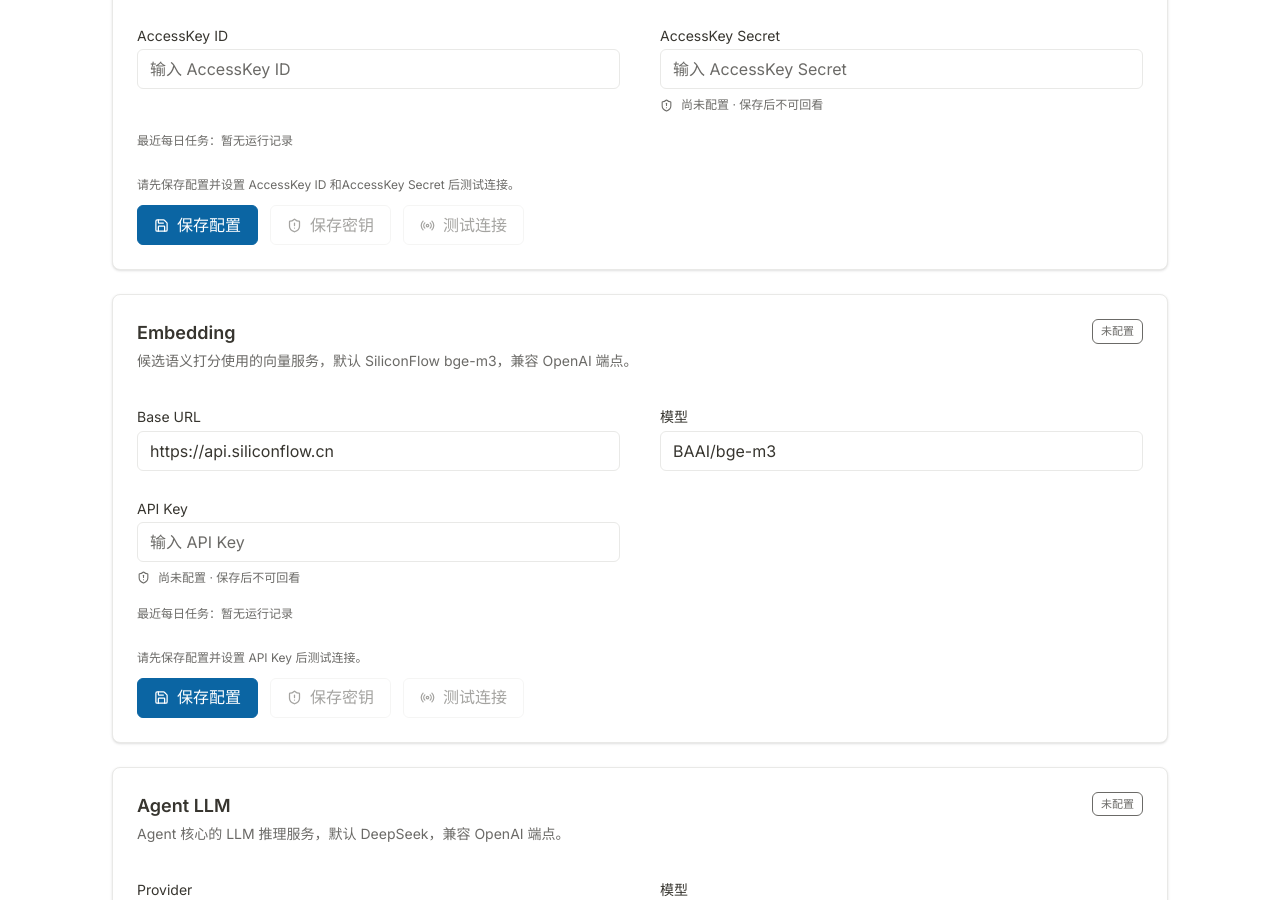
Scenario: Integration providers › requires the embedding endpoint and model before saving
(page scrolled)
Expected: the button with aria-label "保存Embedding配置" is enabled, [137, 678, 258, 718]
Clear the field labelled "模型" at (902, 450), box [660, 430, 1143, 470]
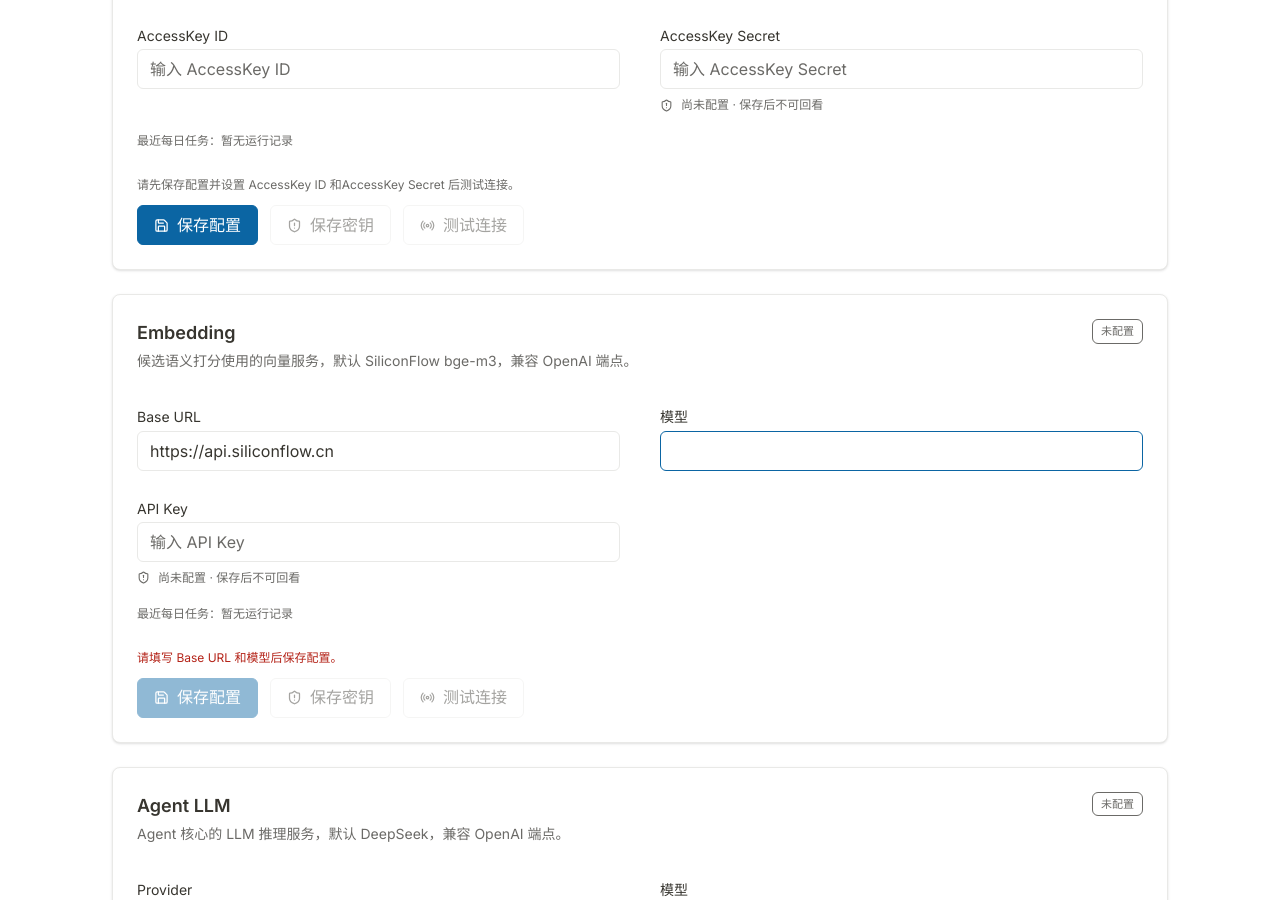
Expected: the button with aria-label "测试Embedding连接" is disabled, [403, 678, 524, 718]
Result: the button with aria-label "保存Embedding配置" is disabled at [137, 678, 258, 718]
Type "BAAI/bge-m3" into the field labelled "模型" at (902, 450), box [660, 430, 1143, 470]
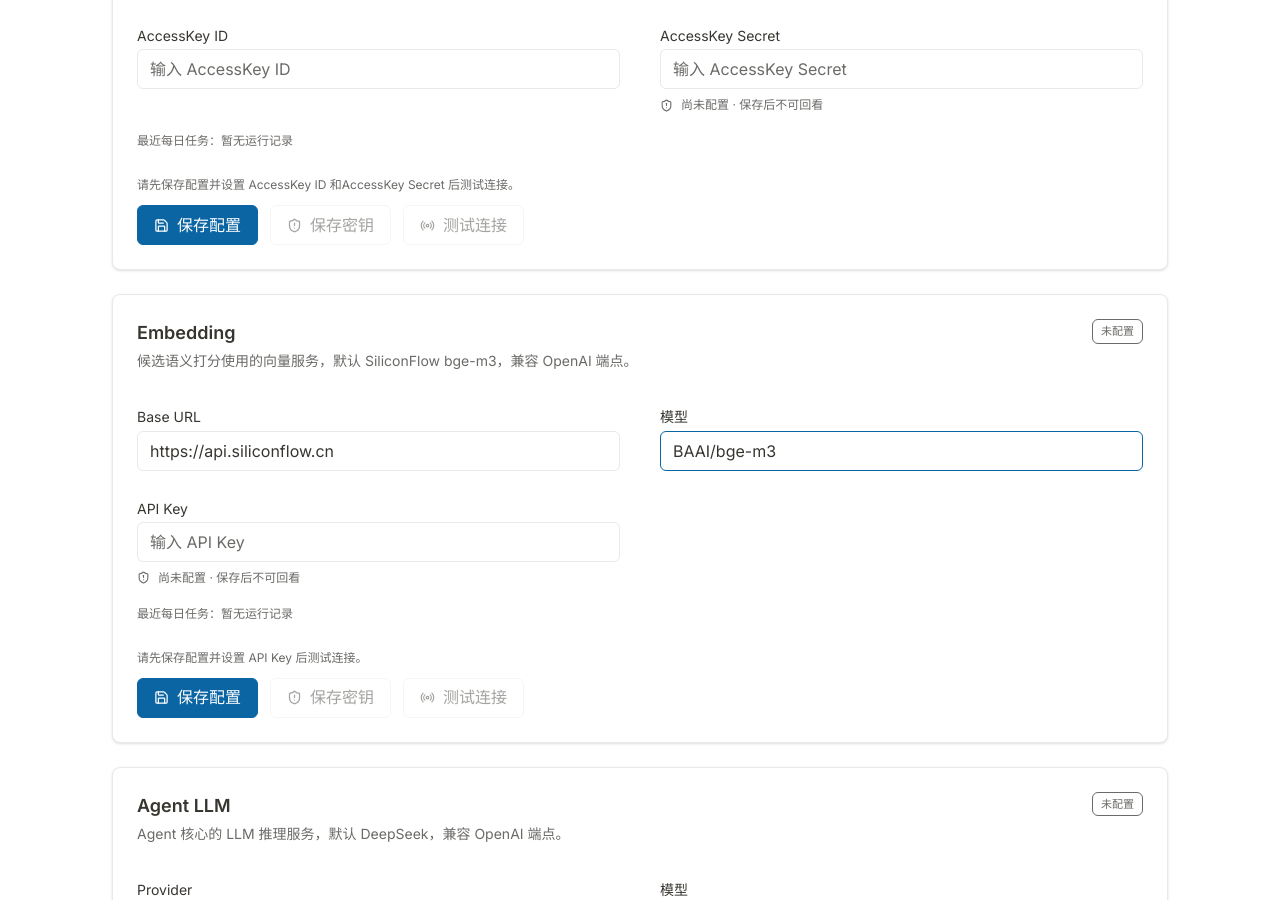
Result: the button with aria-label "保存Embedding配置" is enabled at [137, 678, 258, 718]
